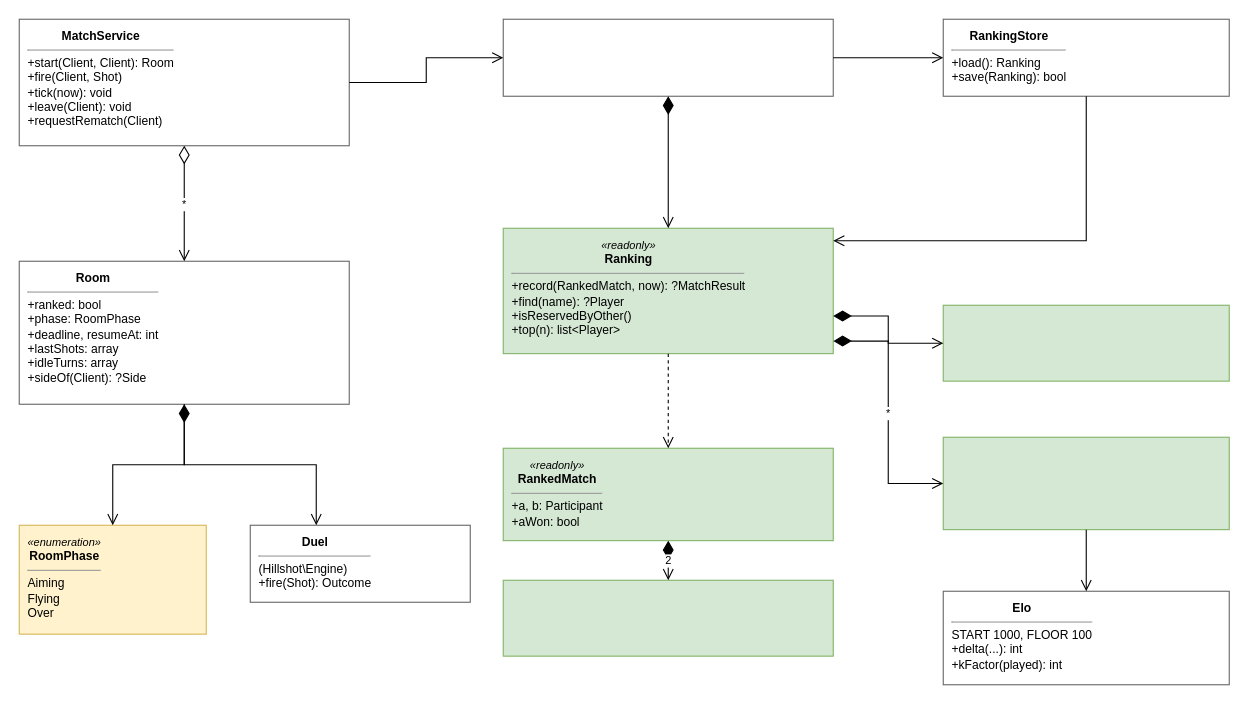
This 1249x704 diagram has some shape labels left out. The shapes that lost their labels are listed below. From the top down, each one's box as (x1, y1, x2, y2) in pixels, then its label:
(502, 18, 833, 96): RankingBook +ranking: Ranking +settle(RankedMatch): ?MatchResult
(942, 304, 1229, 381): «readonly» PairLimiter +meet(a, b, now): Meeting
(942, 436, 1229, 530): «readonly» Player +rating, played, wins, losses +afterMatch(...): Player
(502, 579, 833, 656): «readonly» Participant +name, tokenHash, points
